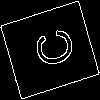C: (25, 25, 77, 74)
